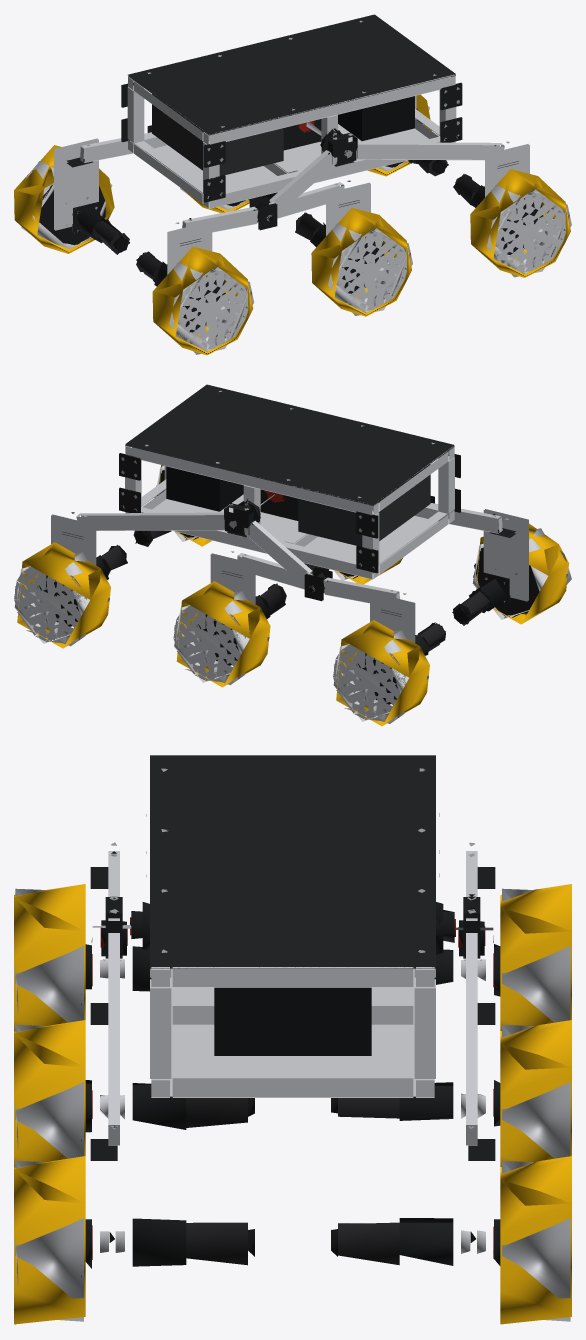
Rendered from taykut2027.lod2.glb.
3 views of the same model, one above another, from view 1: azimuth 30°, elevation 25°; view 2: azimuth 150°, elevation 25°; view 3: azimuth 270°, elevation 25° (orthographic). The views are drawn at different scales.
Visible parts, largest first — view 1: body_mesh, wheel_FR_mesh, wheel_MR_mesh, wheel_RR_mesh, rocker_R_mesh, bogie_R_mesh, bogie_L_mesh, wheel_RL_mesh, wheel_FL_mesh, rocker_L_mesh; view 2: body_mesh, wheel_ML_mesh, wheel_RL_mesh, wheel_FL_mesh, rocker_L_mesh, bogie_L_mesh, bogie_R_mesh, wheel_RR_mesh, rocker_R_mesh; view 3: body_mesh, wheel_FR_mesh, wheel_FL_mesh, rocker_R_mesh, wheel_RR_mesh, wheel_MR_mesh, wheel_RL_mesh, wheel_ML_mesh, rocker_L_mesh, bogie_R_mesh, bogie_L_mesh.
Boxes of the visible parts, <box> form: body_mesh: <box>121,14,462,208</box>; wheel_FR_mesh: <box>470,169,571,277</box>; wheel_MR_mesh: <box>311,208,412,316</box>; wheel_RR_mesh: <box>152,246,254,355</box>; rocker_R_mesh: <box>249,122,529,230</box>; bogie_R_mesh: <box>136,180,370,286</box>; bogie_L_mesh: <box>54,132,277,254</box>; wheel_RL_mesh: <box>14,145,114,253</box>; wheel_FL_mesh: <box>367,94,431,176</box>; rocker_L_mesh: <box>147,95,448,176</box>; body_mesh: <box>119,384,460,579</box>; wheel_ML_mesh: <box>173,581,270,687</box>; wheel_RL_mesh: <box>333,620,429,726</box>; wheel_FL_mesh: <box>14,542,110,648</box>; rocker_L_mesh: <box>51,494,332,601</box>; bogie_L_mesh: <box>210,551,445,655</box>; bogie_R_mesh: <box>304,503,528,625</box>; wheel_RR_mesh: <box>472,523,571,624</box>; rocker_R_mesh: <box>133,466,434,546</box>; body_mesh: <box>130,755,455,1097</box>; wheel_FR_mesh: <box>14,1156,85,1324</box>; wheel_FL_mesh: <box>500,1156,571,1324</box>; rocker_R_mesh: <box>85,896,254,1268</box>; wheel_RR_mesh: <box>14,884,85,1030</box>; wheel_MR_mesh: <box>14,1020,85,1166</box>; wheel_RL_mesh: <box>500,884,571,1030</box>; wheel_ML_mesh: <box>500,1020,571,1166</box>; rocker_L_mesh: <box>331,894,500,1265</box>; bogie_R_mesh: <box>85,842,254,1132</box>; bogie_L_mesh: <box>331,842,500,1126</box>.
Size of the model in its own units: 1.14 by 0.4958 by 0.78.
